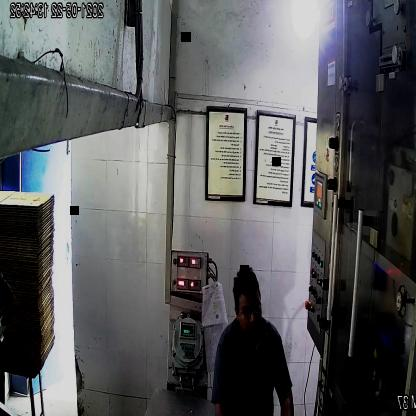goggles: (234, 298, 265, 322)
